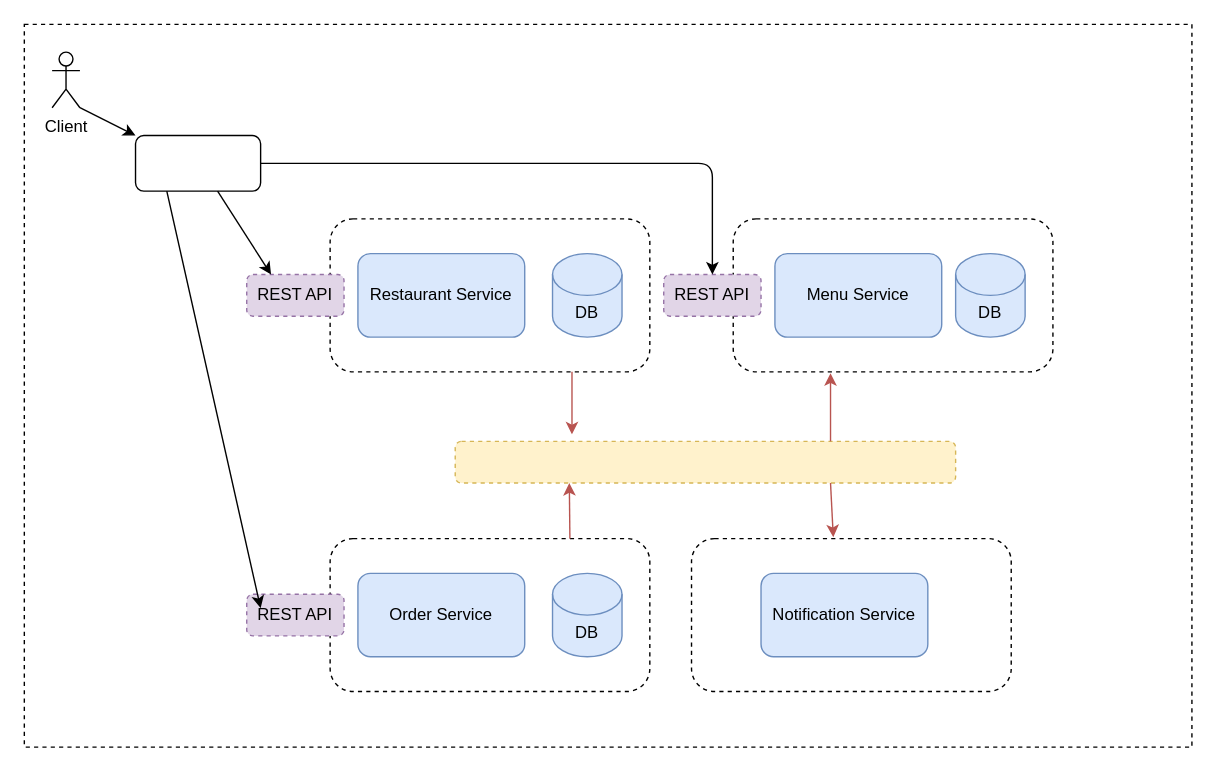
This 1216x771 diagram has some shape labels left out. Each missing label, with the centre of its shape:
"API Gateway" belongs at pixel 197 162.
"Message Broker" belongs at pixel 705 461.
